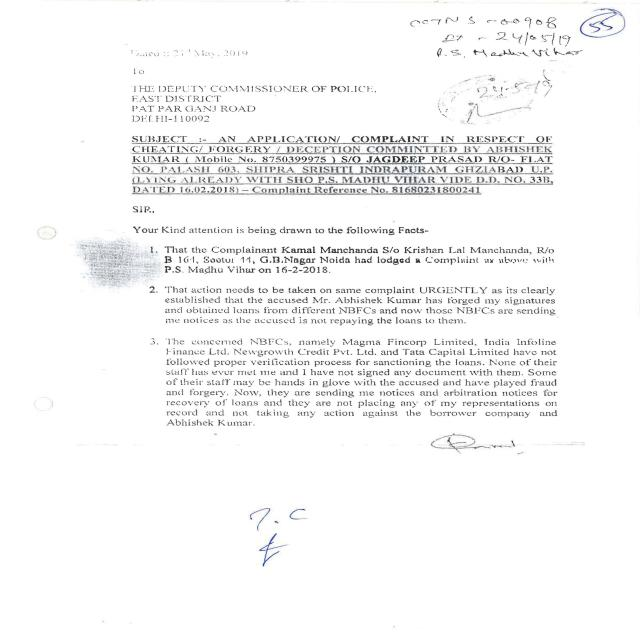page-number: (573, 0, 640, 120)
